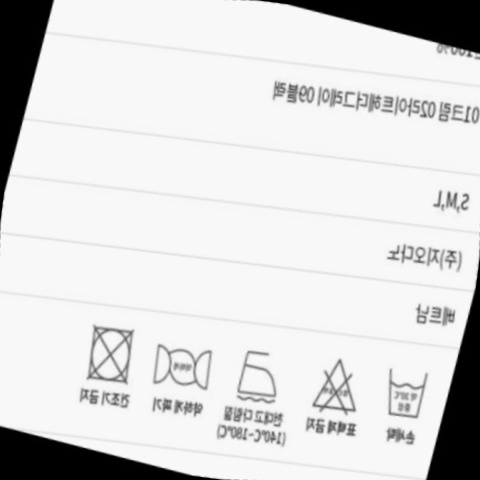30C: (361, 346, 448, 436)
DN_tumble_dry: (61, 302, 159, 404)
iron: (131, 319, 233, 410), (213, 325, 305, 421)
non_chlorine_bleach: (286, 334, 383, 434)
